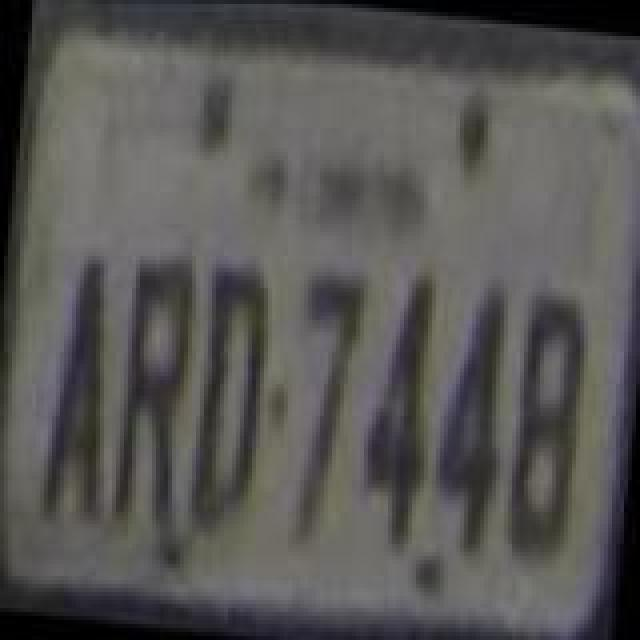4: (350, 268, 442, 556), (422, 274, 514, 558)
7: (280, 266, 364, 546)
8: (496, 282, 592, 574)
A: (36, 252, 120, 532)
D: (184, 258, 276, 538)
R: (104, 246, 196, 526)
